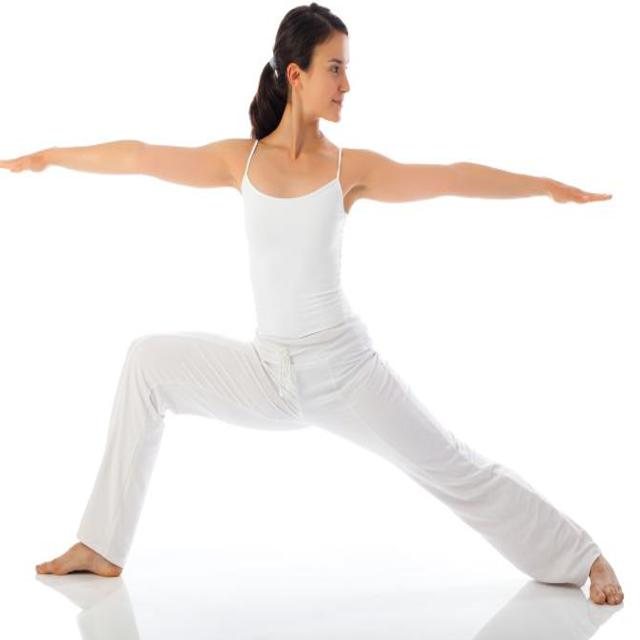Warrior_II: (7, 5, 626, 612)
